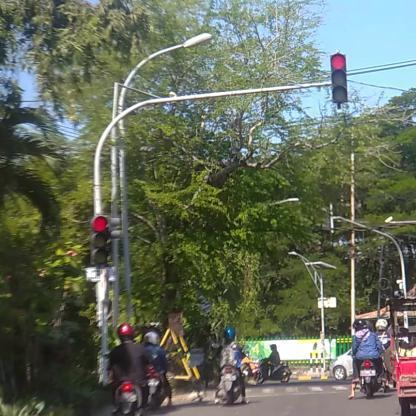red: (91, 215, 109, 267), (330, 54, 348, 104)
